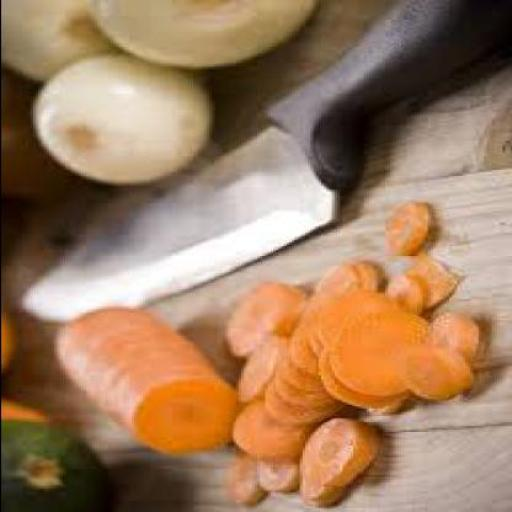biodegradable: (54, 306, 232, 452), (26, 51, 208, 182), (80, 0, 308, 65), (1, 420, 106, 510), (2, 0, 114, 81), (326, 307, 422, 397), (313, 348, 416, 404), (224, 282, 304, 353), (318, 287, 411, 348), (226, 398, 304, 462), (299, 416, 371, 485), (394, 344, 472, 397), (262, 381, 368, 420), (274, 356, 360, 402), (229, 334, 283, 398), (397, 254, 456, 308), (376, 199, 430, 256), (424, 310, 478, 366), (288, 454, 342, 506), (304, 264, 358, 312), (224, 453, 263, 505), (286, 320, 322, 374), (250, 456, 296, 488), (306, 300, 334, 352), (347, 260, 382, 298), (386, 271, 418, 311), (0, 399, 42, 422), (354, 391, 402, 410)
metal: (14, 125, 336, 321)
